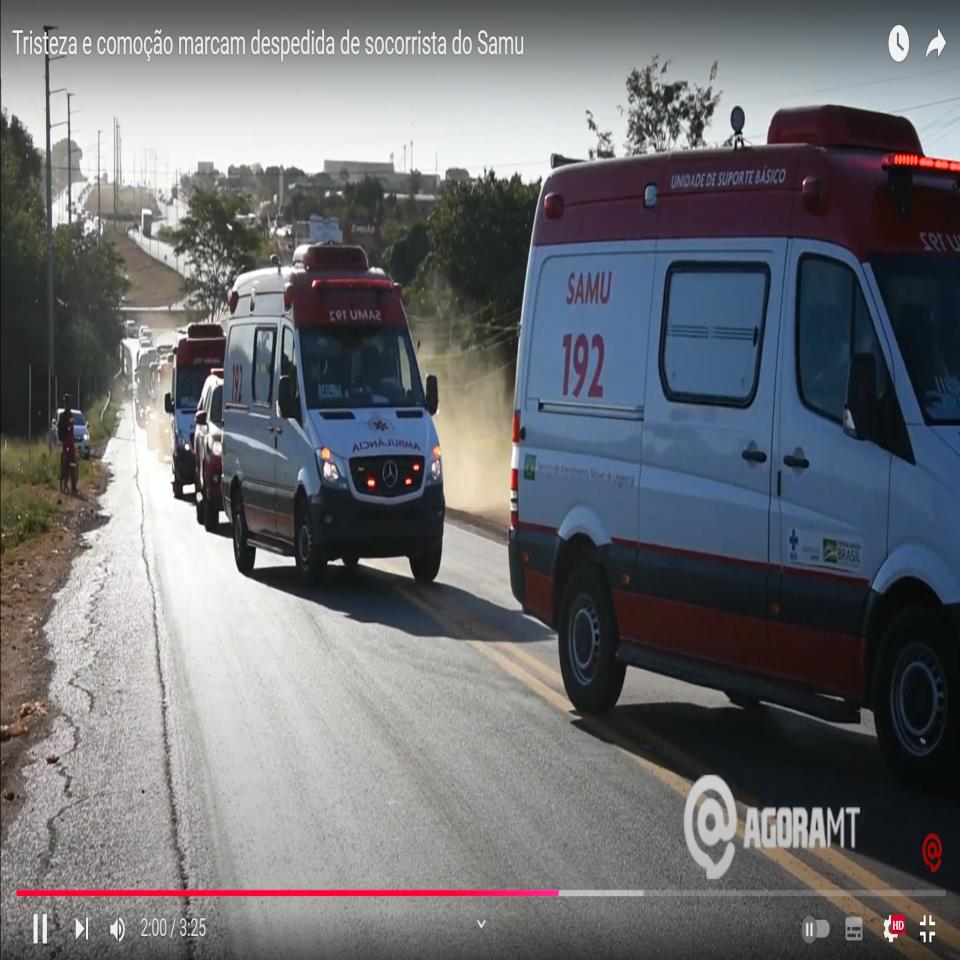bombeiro: (506, 106, 960, 791), (219, 239, 447, 583)
